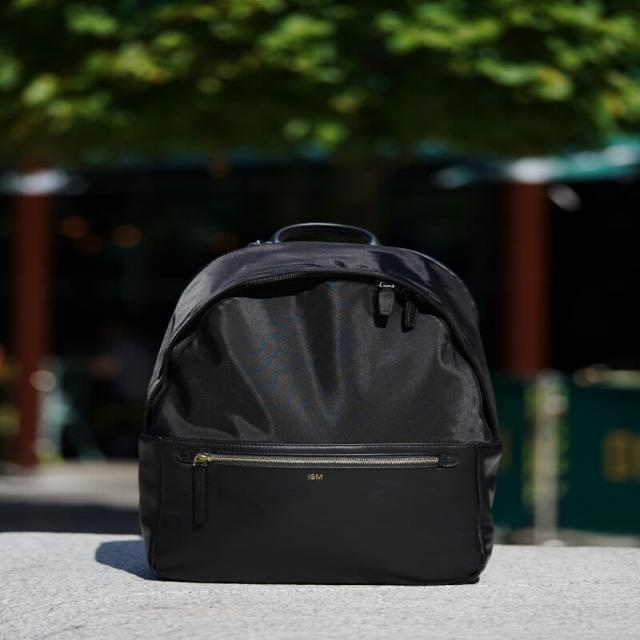Backpacks: (129, 212, 502, 588)
